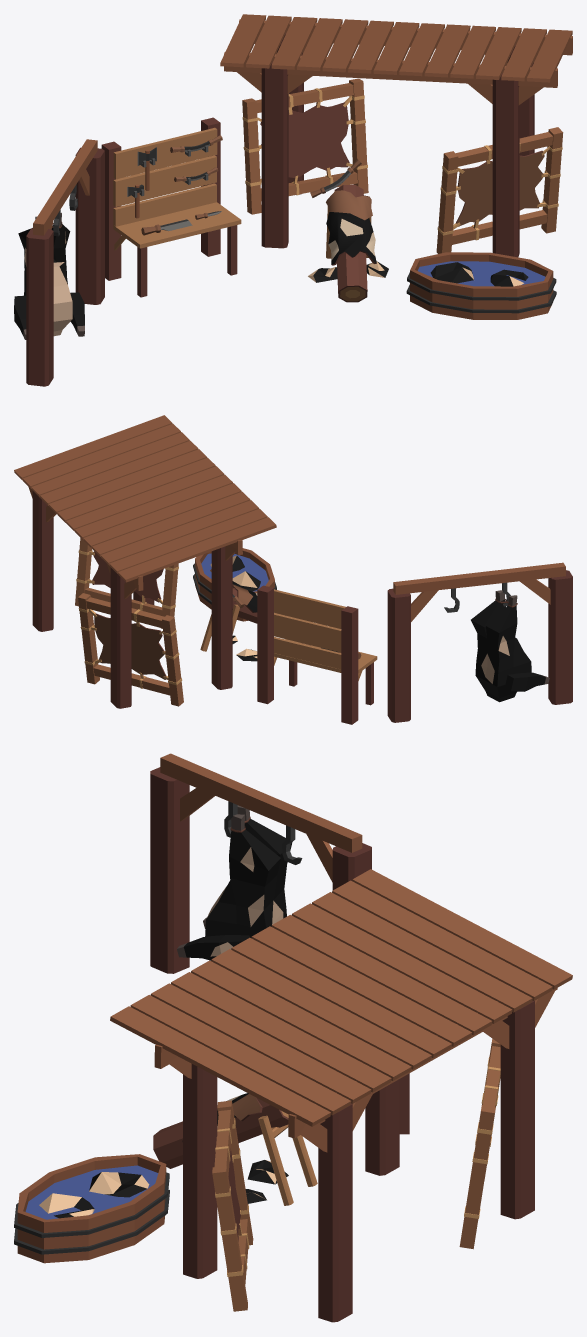
Rendered from tanery_2.fbx.
3 views of the same model, one above another, from view 1: azimuth 30°, elevation 25°; view 2: azimuth 150°, elevation 25°; view 3: azimuth 270°, elevation 25° (orthographic). The views are drawn at different scales.
Visible parts, largest first — view 1: roof_shelter, bench_with_tools, pillars_shelter, pillars_for_cow_carcass, leather_on_frame.002, barrel_with_leather.001, leather_on_frame.001, cow_leather.001, cow_carcass, Deck.001; view 2: roof_shelter, pillars_for_cow_carcass, bench_with_tools, pillars_shelter, leather_on_frame.002, cow_carcass, leather_on_frame.001, barrel_with_leather.001, cow_leather.001; view 3: roof_shelter, pillars_shelter, pillars_for_cow_carcass, barrel_with_leather.001, cow_carcass, leather_on_frame.001, leather_on_frame.002, Deck.001, stand.001, cow_leather.001.
Boxes of the visible parts, x1=… form: roof_shelter: x1=220, y1=14, x2=572, y2=87; bench_with_tools: x1=101, y1=117, x2=241, y2=297; pillars_shelter: x1=237, y1=33, x2=543, y2=257; pillars_for_cow_carcass: x1=26, y1=139, x2=104, y2=386; leather_on_frame.002: x1=242, y1=78, x2=368, y2=214; barrel_with_leather.001: x1=406, y1=252, x2=556, y2=319; leather_on_frame.001: x1=436, y1=127, x2=563, y2=253; cow_leather.001: x1=308, y1=190, x2=388, y2=282; cow_carcass: x1=14, y1=212, x2=84, y2=339; Deck.001: x1=334, y1=184, x2=367, y2=302; roof_shelter: x1=14, y1=415, x2=276, y2=590; pillars_for_cow_carcass: x1=387, y1=562, x2=572, y2=722; bench_with_tools: x1=257, y1=585, x2=377, y2=724; pillars_shelter: x1=28, y1=487, x2=236, y2=708; leather_on_frame.002: x1=78, y1=593, x2=183, y2=706; cow_carcass: x1=471, y1=590, x2=549, y2=702; leather_on_frame.001: x1=75, y1=538, x2=178, y2=628; barrel_with_leather.001: x1=193, y1=548, x2=276, y2=621; cow_leather.001: x1=232, y1=584, x2=257, y2=661; roof_shelter: x1=110, y1=869, x2=572, y2=1138; pillars_shelter: x1=168, y1=989, x2=555, y2=1322; pillars_for_cow_carcass: x1=150, y1=753, x2=371, y2=973; barrel_with_leather.001: x1=14, y1=1154, x2=169, y2=1263; cow_carcass: x1=177, y1=805, x2=292, y2=960; leather_on_frame.001: x1=212, y1=1100, x2=253, y2=1311; leather_on_frame.002: x1=459, y1=1039, x2=500, y2=1249; Deck.001: x1=153, y1=1098, x2=288, y2=1168; stand.001: x1=258, y1=1115, x2=317, y2=1205; cow_leather.001: x1=182, y1=1093, x2=288, y2=1203.
Bounding box in the file's own units: 474 × 152 × 292.
